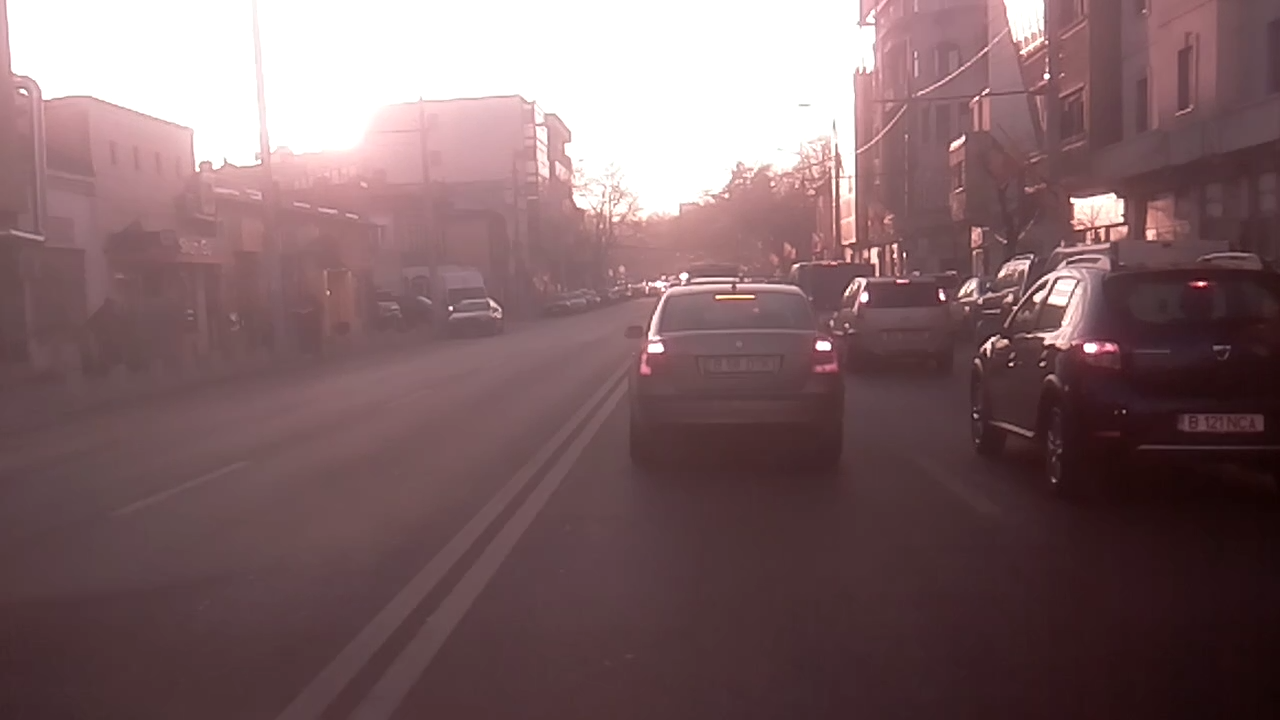license-plate: (1173, 410, 1267, 436)
